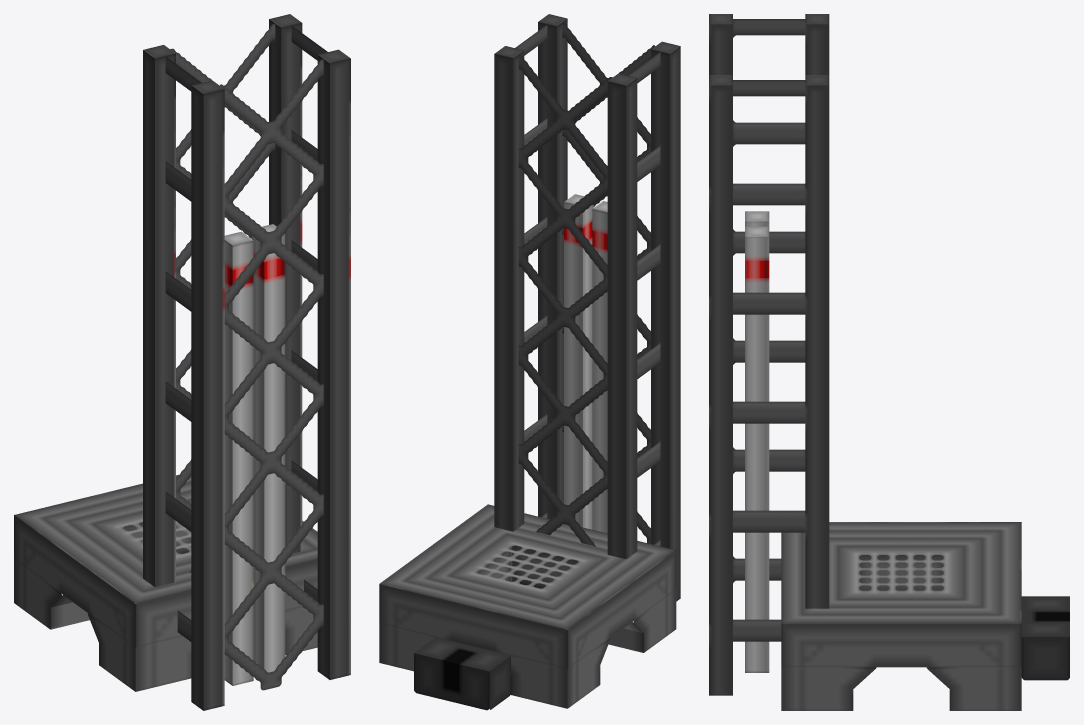
The model's file is micro_pad.obj.
The picture shows the model from 3 angles, left to right: view 1: azimuth 30°, elevation 25°; view 2: azimuth 150°, elevation 25°; view 3: azimuth 270°, elevation 25°; orthographic projection. The views are drawn at different scales.
Parts seen in each view (by area): view 1: micro_pad; view 2: micro_pad; view 3: micro_pad.
Part boxes in pixels (x1,y1,x2,y2): micro_pad: [14, 14, 350, 710]; micro_pad: [379, 14, 680, 710]; micro_pad: [709, 14, 1069, 710].
Size of the model in its own units: 2.5 by 7 by 3.75.
